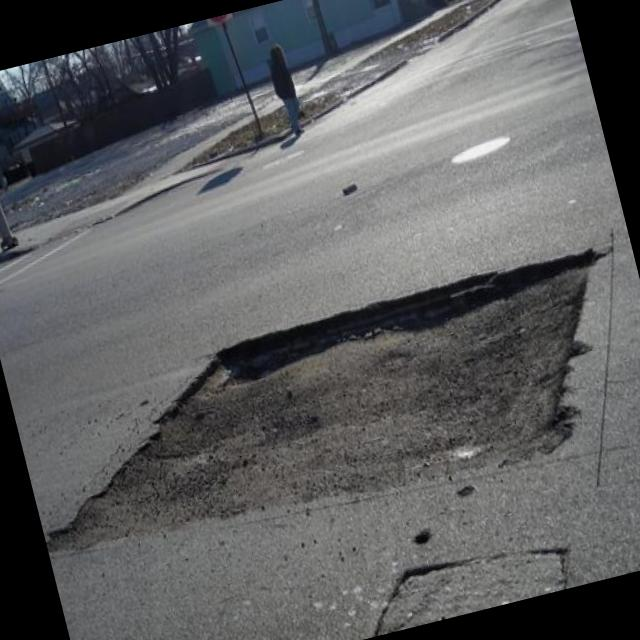pothole: (6, 231, 640, 582)
